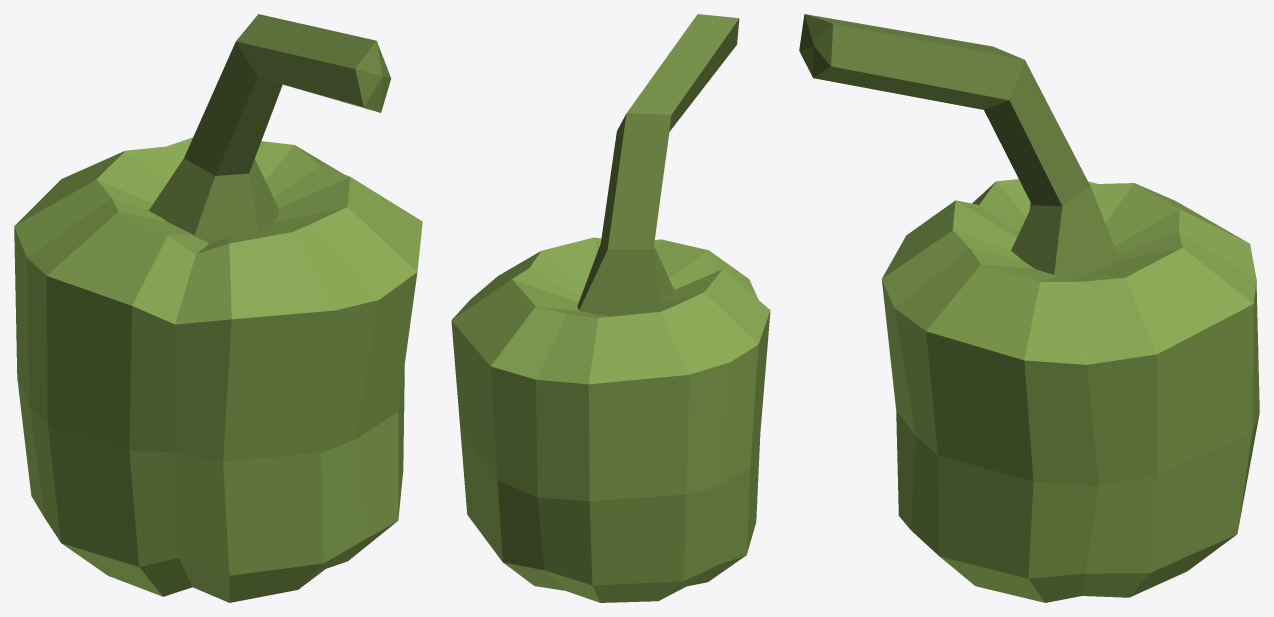
File: SM_Prop_Pepper_01_M.glb
3 views of the same model, side by side, from view 1: azimuth 30°, elevation 25°; view 2: azimuth 150°, elevation 25°; view 3: azimuth 270°, elevation 25° (orthographic). The views are drawn at different scales.
Visible parts, largest first — view 1: SM_Prop_Pepper_01_M; view 2: SM_Prop_Pepper_01_M; view 3: SM_Prop_Pepper_01_M.
Boxes of the visible parts, bbox=[...] form: SM_Prop_Pepper_01_M: bbox=[14, 14, 422, 602]; SM_Prop_Pepper_01_M: bbox=[451, 14, 770, 602]; SM_Prop_Pepper_01_M: bbox=[799, 14, 1259, 602].
Bounding box in the file's own units: 0.1036 × 0.1661 × 0.1271.
Materials: 1 (1 with a texture image).
